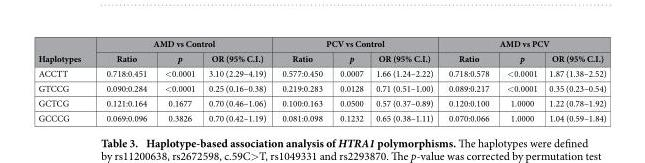table: (37, 36, 605, 123)
table column: (201, 36, 273, 123), (369, 36, 440, 123), (542, 36, 605, 123), (93, 36, 155, 123), (273, 36, 330, 123), (440, 36, 497, 123), (37, 36, 93, 123), (155, 36, 201, 123), (497, 36, 542, 123), (330, 36, 369, 123)
table column header: (37, 36, 605, 65)
table row: (37, 50, 605, 65), (37, 65, 605, 80), (37, 80, 605, 95), (37, 95, 605, 110), (37, 36, 605, 50), (37, 110, 605, 123)
table spanning cell: (93, 36, 273, 50), (273, 36, 440, 50), (440, 36, 605, 50), (37, 36, 93, 65)
